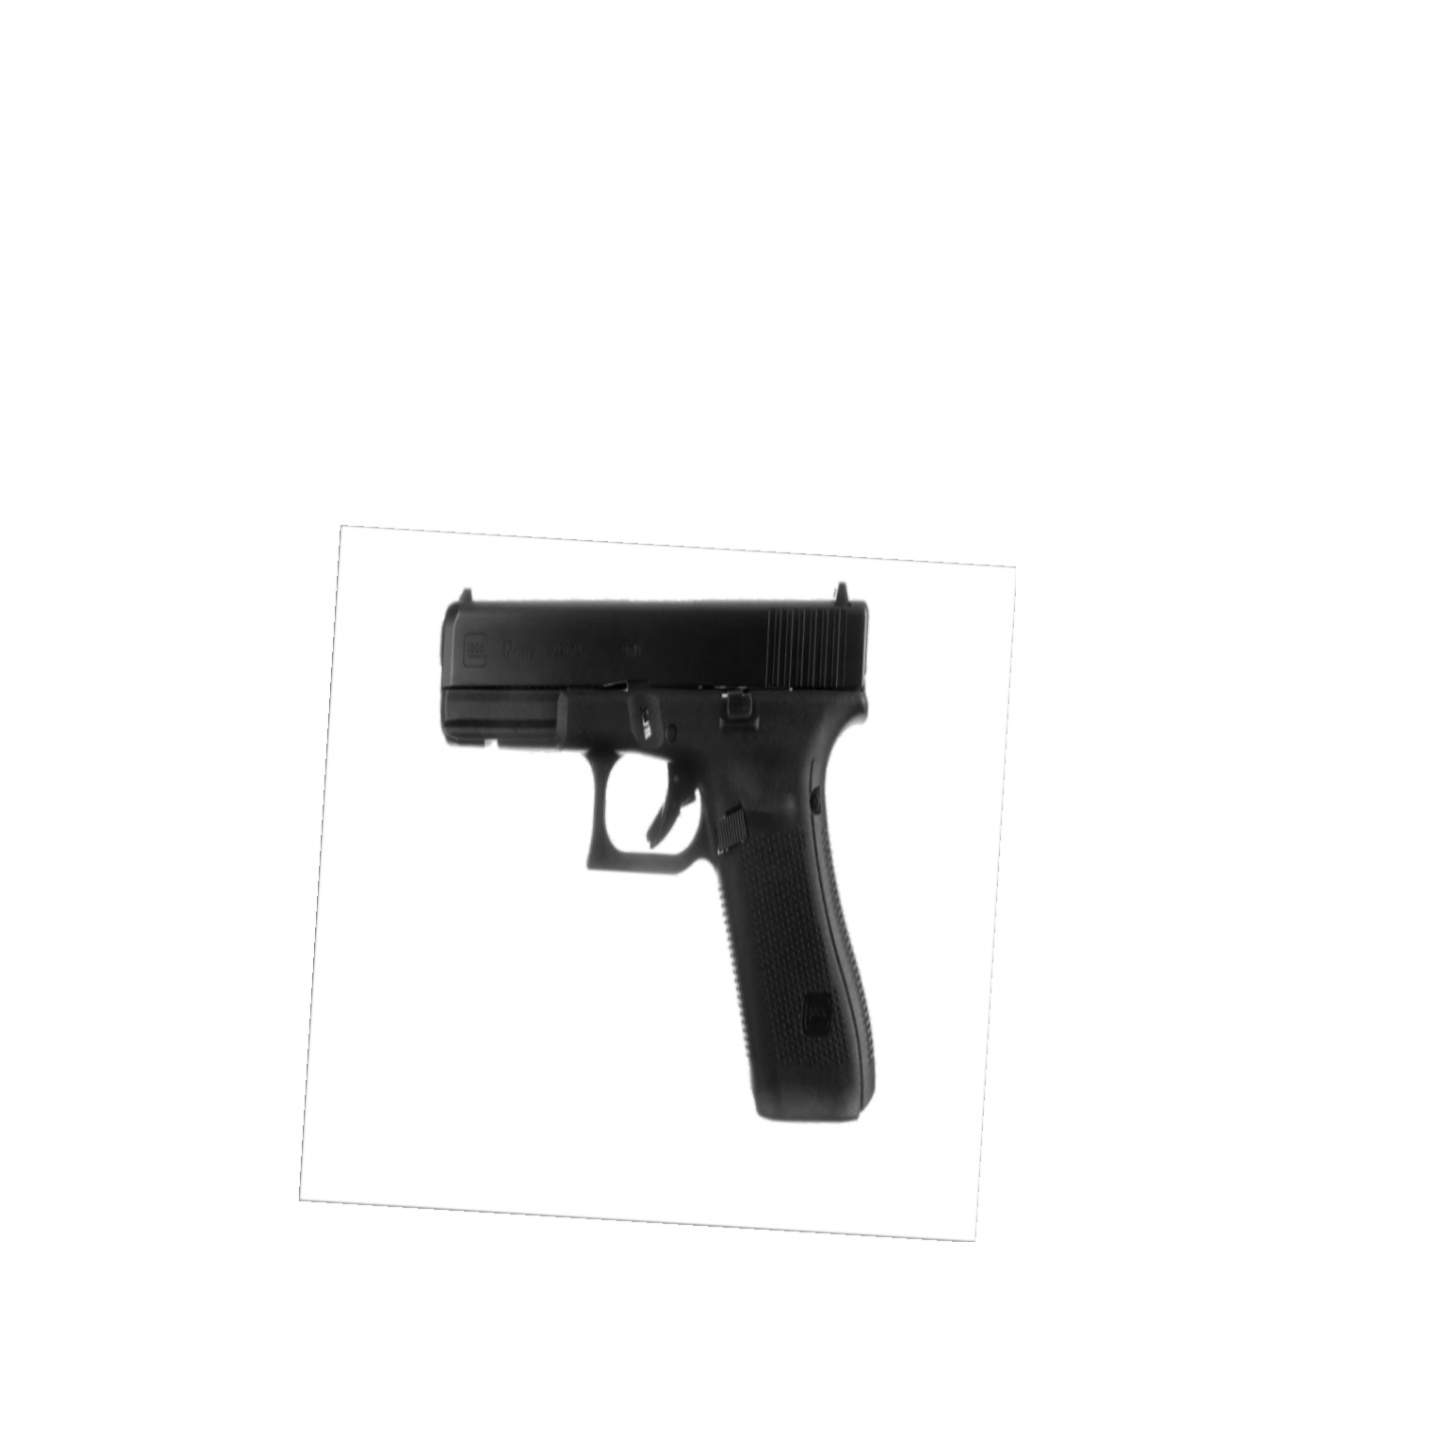gun: (441, 583, 877, 1123)
